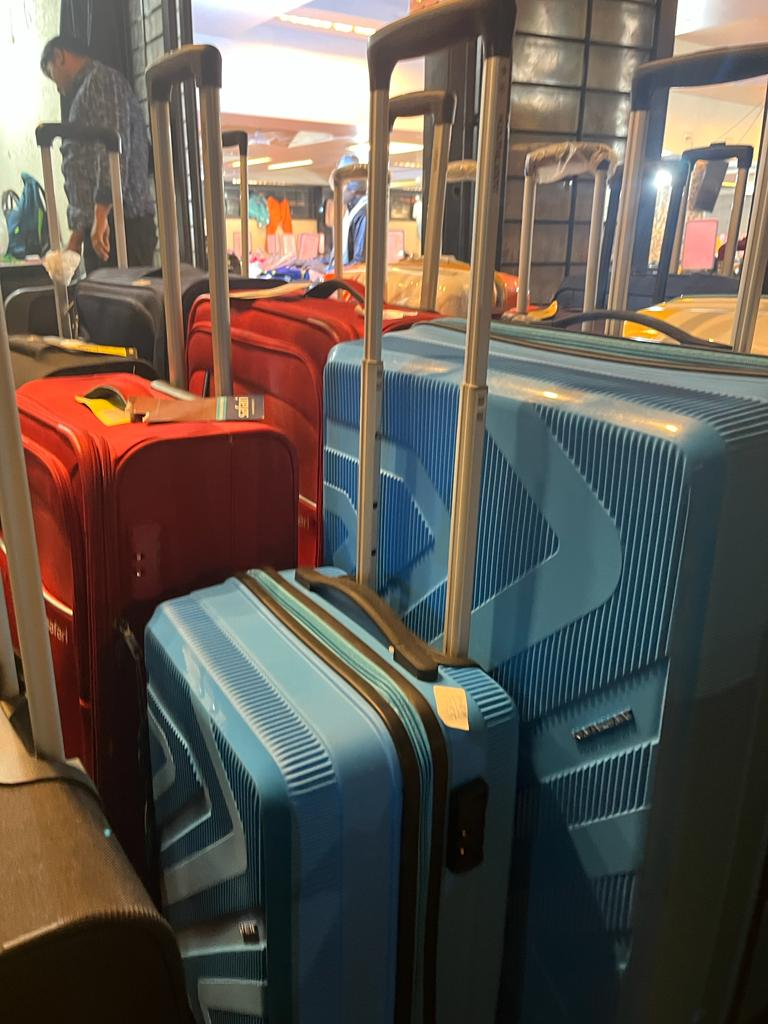Bag: (143, 0, 529, 1024), (16, 42, 303, 845)
Handle: (332, 0, 525, 691), (132, 44, 250, 424), (632, 40, 765, 368), (25, 119, 148, 330), (521, 136, 614, 308), (673, 134, 754, 284)
